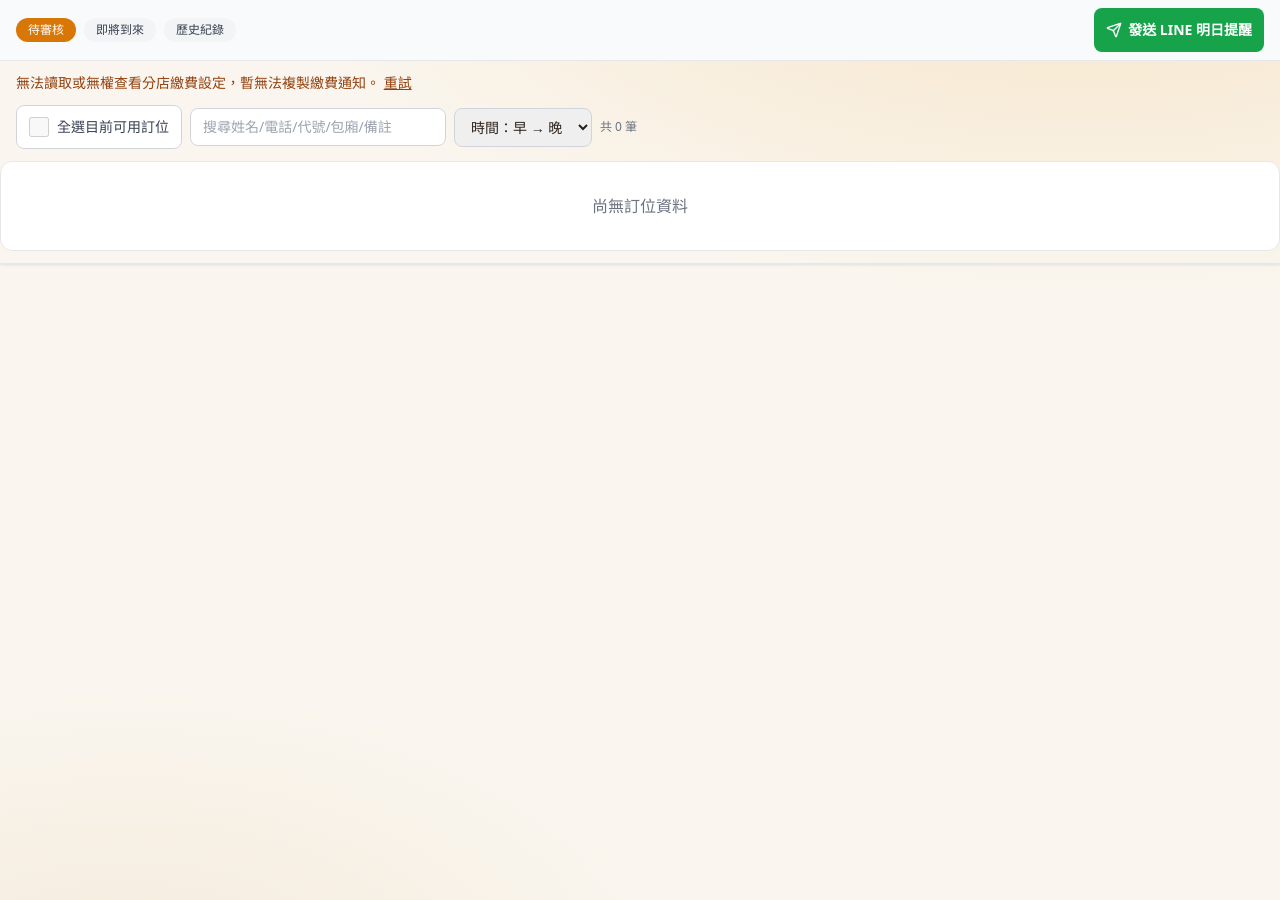
ReservationList server-scoped lists › pages history with 載入更多 using the server cursor
The image size is (1280, 900).
What coordinates should you click on to do the following:
click the button "歷史紀錄"
I would click on:
 (200, 30)
Its box is [164,18,236,42].
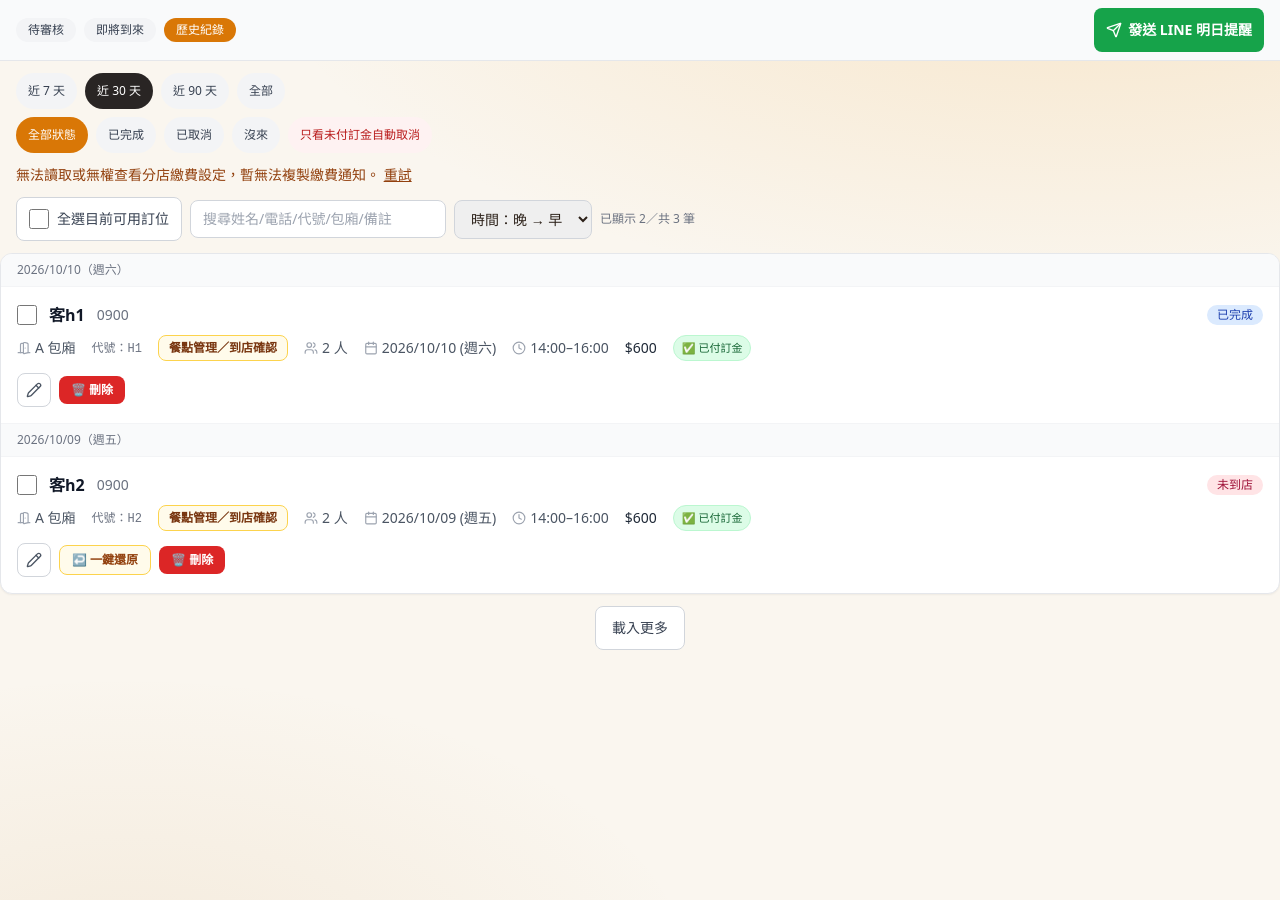
Expected: the text "已顯示 2／共 3 筆" is shown, [600,211,695,227]
What coordinates should you click on to do the following:
click the button "載入更多"
I would click on:
 (640, 628)
Its box is [595,606,685,650].
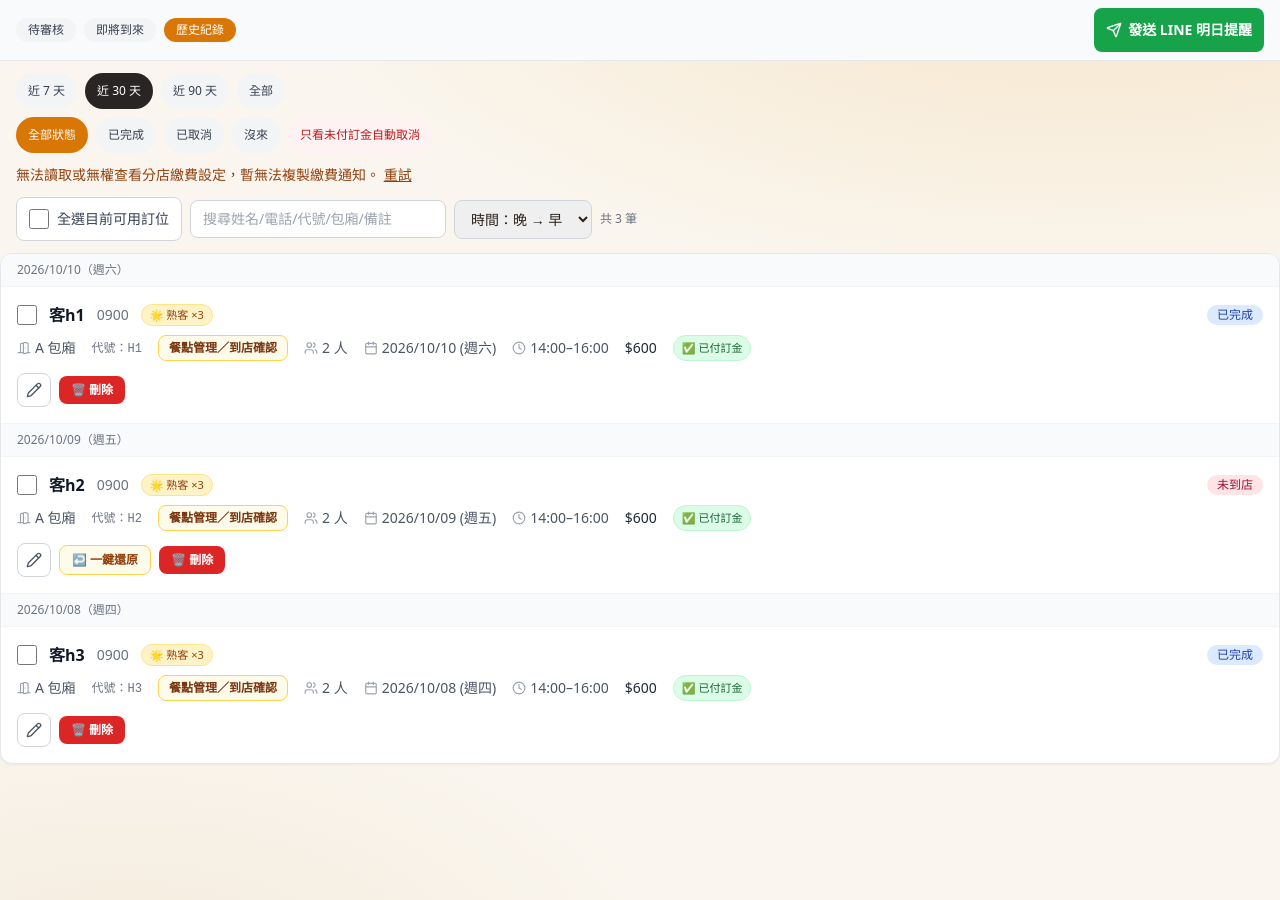
Expected: the text "H1" is shown, [128,342,142,356]
Expected: the text "H3" is shown, [128,682,142,696]
Expected: the button "載入更多" is gone
